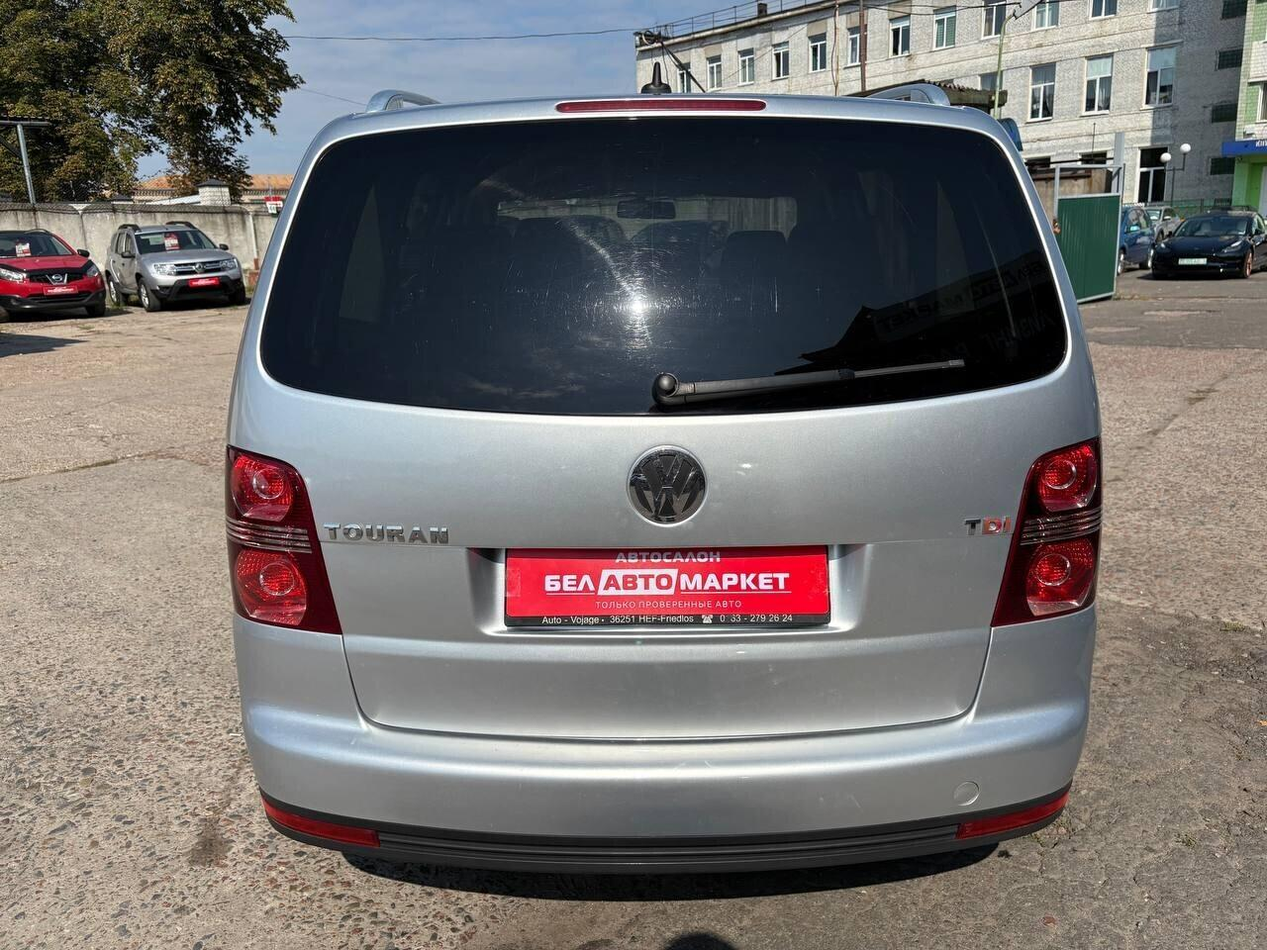Touran_2006-2010: (214, 89, 1122, 889)
